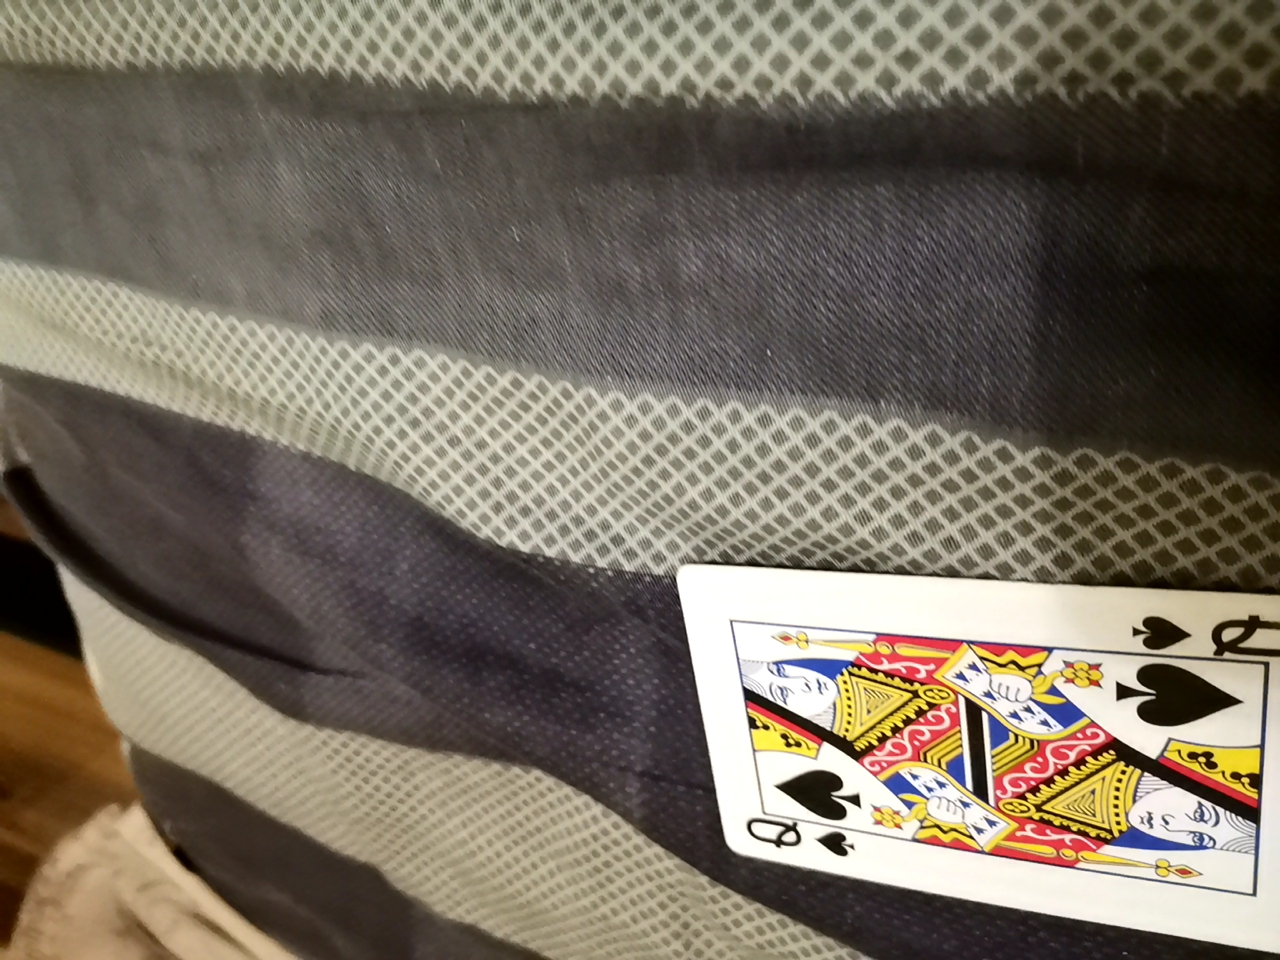ht q: (687, 584, 1270, 951)
